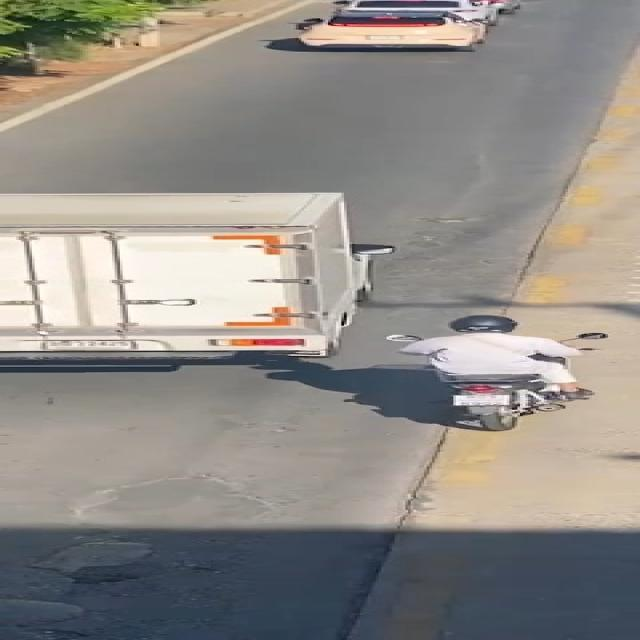car: (0, 181, 400, 376), (286, 5, 503, 50)
